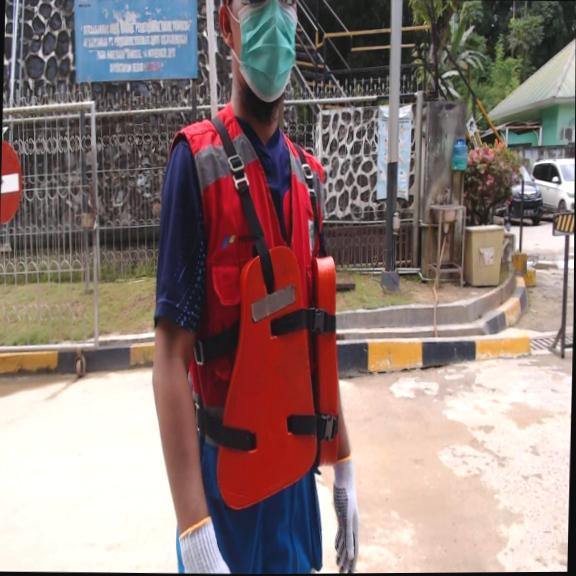safety_vest: (209, 238, 352, 509)
